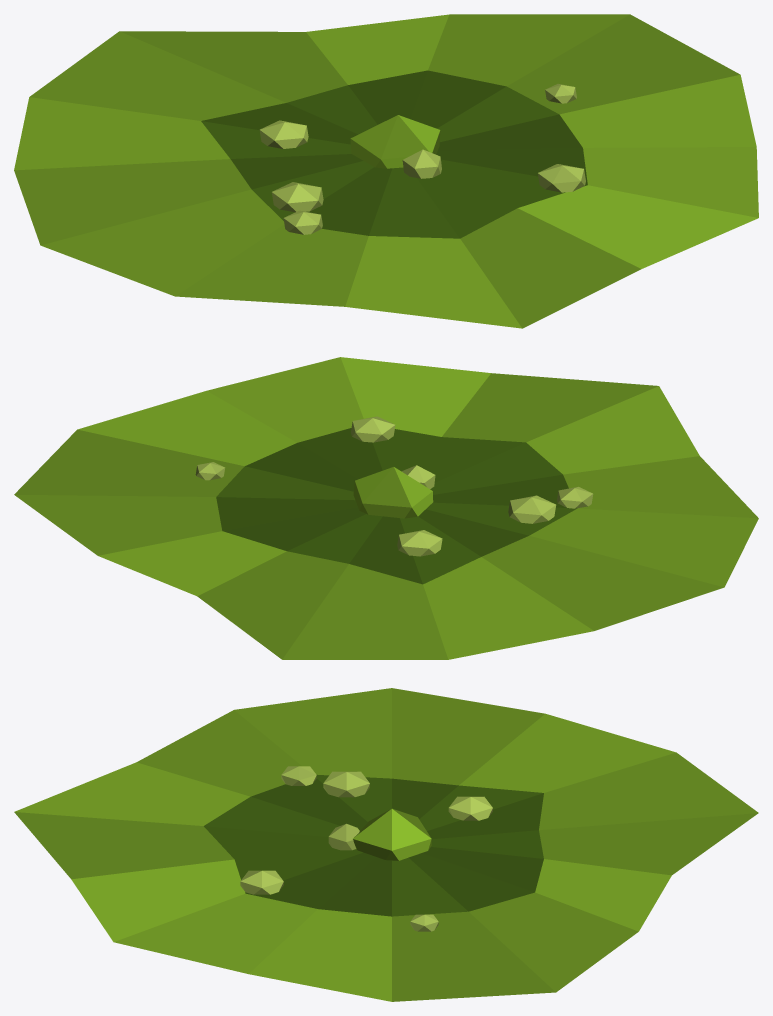
The model's file is spit.glb.
The picture shows the model from 3 angles, top to bottom: view 1: azimuth 30°, elevation 25°; view 2: azimuth 150°, elevation 25°; view 3: azimuth 270°, elevation 25°; orthographic projection. The views are drawn at different scales.
Parts seen in each view (by area): view 1: Puddle, Glob; view 2: Puddle, Glob; view 3: Puddle, Glob.
Boxes of the visible parts, x1=… form: Puddle: x1=14, y1=14, x2=758, y2=328; Glob: x1=350, y1=115, x2=441, y2=178; Puddle: x1=14, y1=357, x2=758, y2=659; Glob: x1=353, y1=465, x2=435, y2=518; Puddle: x1=14, y1=688, x2=758, y2=1001; Glob: x1=328, y1=808, x2=431, y2=860.
Bounding box in the file's own units: 2.12 × 0.262 × 2.13.
